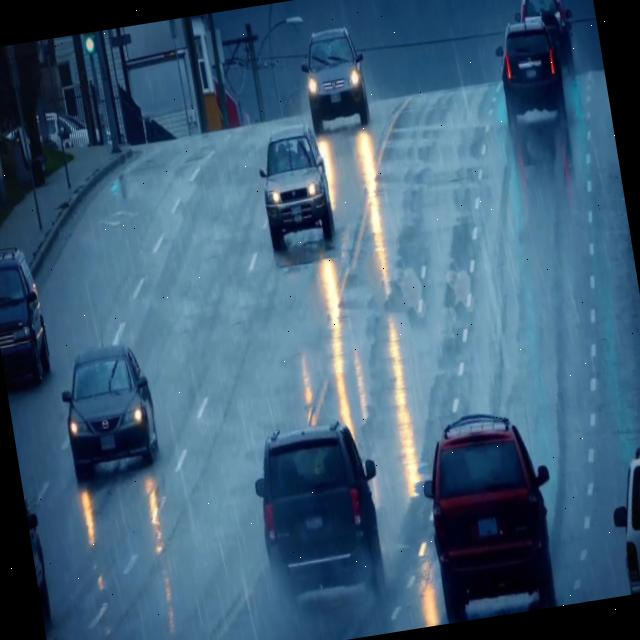car: (410, 410, 564, 622), (245, 416, 392, 618), (53, 341, 163, 483), (253, 123, 338, 250), (492, 14, 569, 129), (296, 24, 374, 136), (0, 244, 56, 392), (512, 0, 575, 75), (601, 440, 640, 557)
